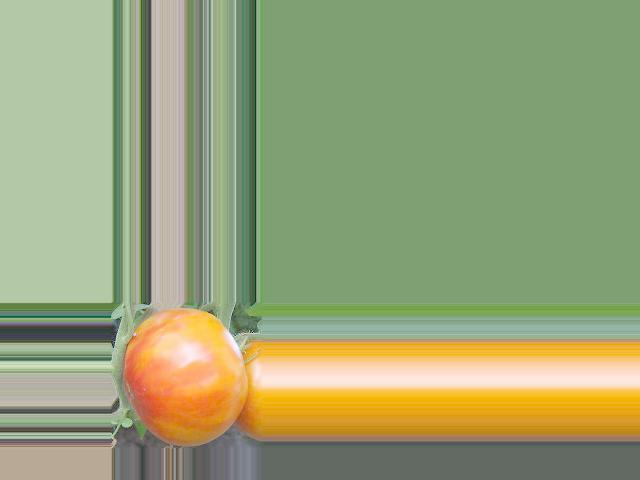tomato: (124, 308, 246, 446)
